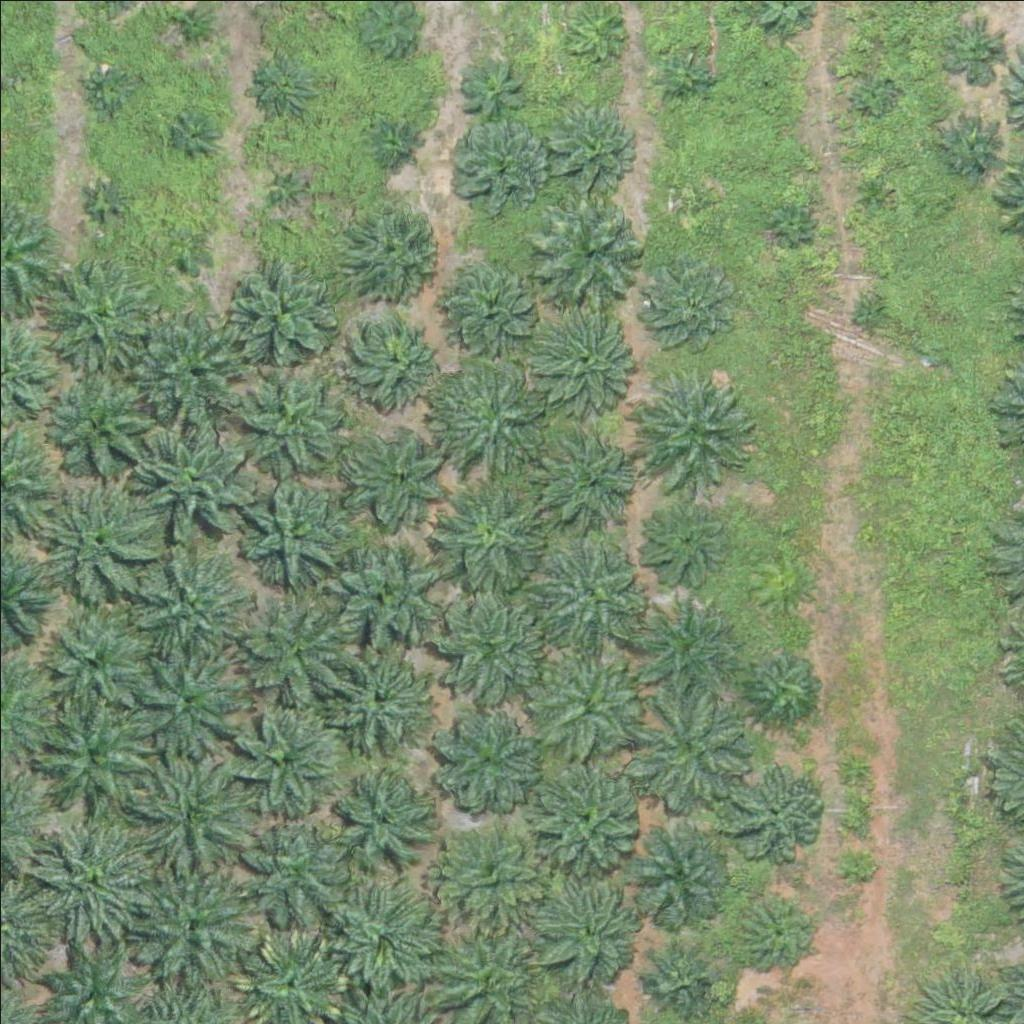Kelapa_Sawit: (35, 816, 160, 942), (129, 861, 254, 987), (139, 746, 264, 872), (629, 687, 754, 813), (636, 367, 761, 493), (226, 353, 351, 479), (123, 638, 248, 764), (125, 544, 250, 670), (130, 409, 255, 535), (130, 294, 255, 420), (33, 699, 158, 825), (29, 600, 154, 726), (33, 479, 158, 605), (43, 366, 168, 492), (424, 353, 549, 478), (438, 818, 551, 931), (526, 757, 639, 870), (536, 873, 649, 986), (428, 707, 541, 820), (320, 637, 433, 750), (537, 197, 650, 310), (433, 592, 546, 705), (433, 479, 546, 592), (335, 541, 448, 654), (221, 251, 334, 364), (242, 589, 354, 703), (235, 812, 347, 925), (328, 759, 440, 872), (328, 883, 440, 996), (227, 703, 339, 816), (529, 641, 641, 754), (628, 590, 740, 703), (533, 534, 645, 647), (531, 301, 643, 414), (240, 477, 352, 590), (43, 251, 155, 364), (629, 820, 729, 921), (640, 253, 740, 354), (537, 425, 637, 526), (439, 253, 539, 354), (349, 425, 449, 526), (347, 308, 447, 409), (349, 195, 449, 296), (444, 118, 544, 219), (725, 758, 825, 858), (730, 884, 818, 972), (641, 501, 728, 589), (544, 98, 631, 186), (744, 648, 819, 724), (642, 942, 717, 1017), (946, 18, 1009, 81), (936, 116, 999, 179), (653, 43, 716, 106), (252, 52, 314, 115), (461, 61, 523, 124), (167, 3, 217, 54), (169, 113, 219, 163), (80, 176, 130, 226), (84, 65, 134, 115), (264, 161, 314, 211), (161, 230, 211, 280), (856, 77, 894, 115), (852, 175, 890, 213), (851, 294, 889, 332), (838, 843, 875, 881), (374, 120, 412, 157), (666, 182, 704, 219), (771, 201, 808, 239), (752, 64, 777, 89)
